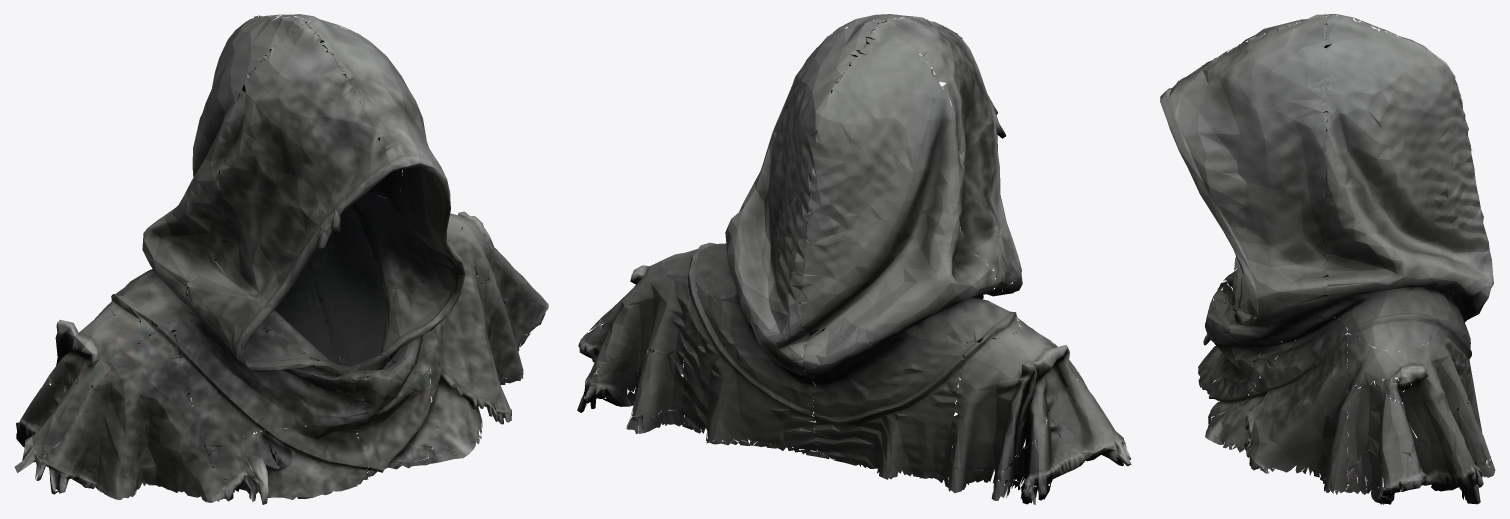
Rendered from a_hood.glb.
3 views of the same model, side by side, from view 1: azimuth 30°, elevation 25°; view 2: azimuth 150°, elevation 25°; view 3: azimuth 270°, elevation 25° (orthographic). The views are drawn at different scales.
Visible parts, largest first — view 1: geometry_0; view 2: geometry_0; view 3: geometry_0.
Boxes of the visible parts, x1,y1,x2,y2 form: geometry_0: (14,14,548,504); geometry_0: (577,14,1131,504); geometry_0: (1160,14,1495,504).
Bounding box in the file's own units: 0.5064 × 0.36 × 0.2871.
Materials: 1 (1 with a texture image).
